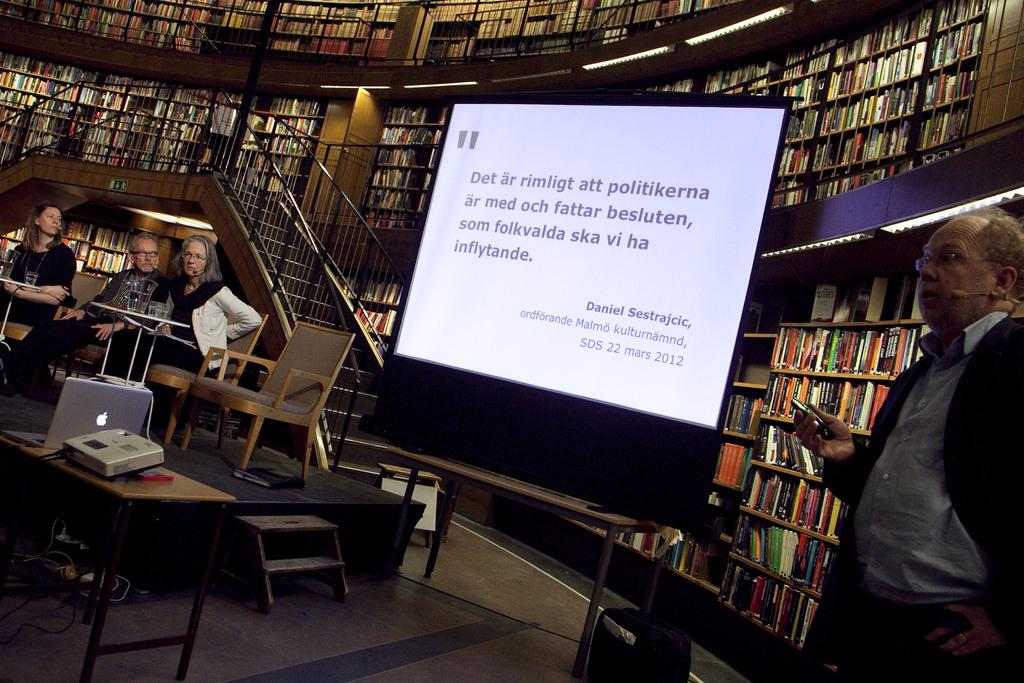Book: (0, 0, 988, 647), (748, 524, 756, 566)
